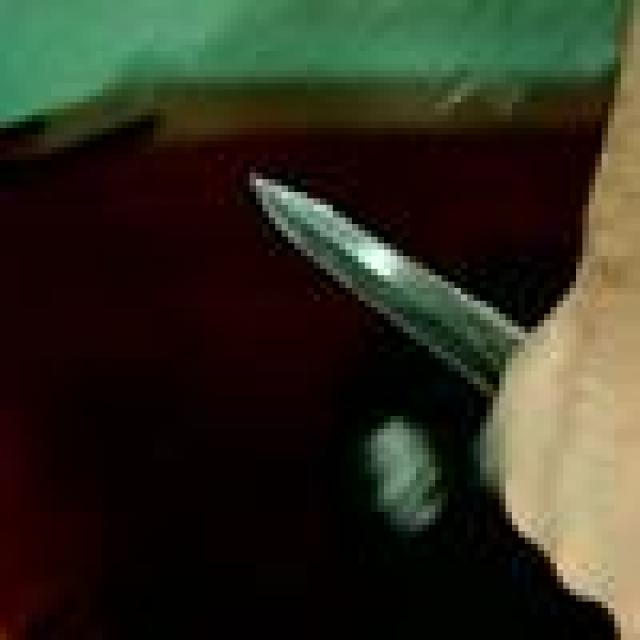knife: (254, 181, 498, 397)
